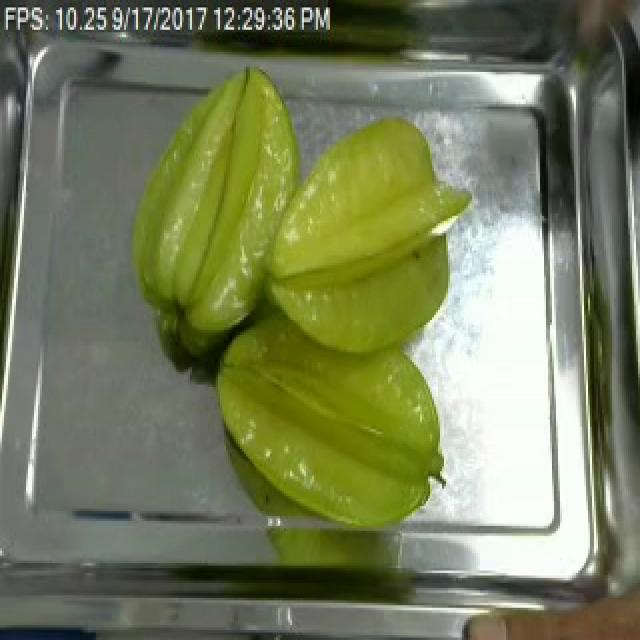fruit: (116, 52, 424, 357), (198, 320, 450, 538)
